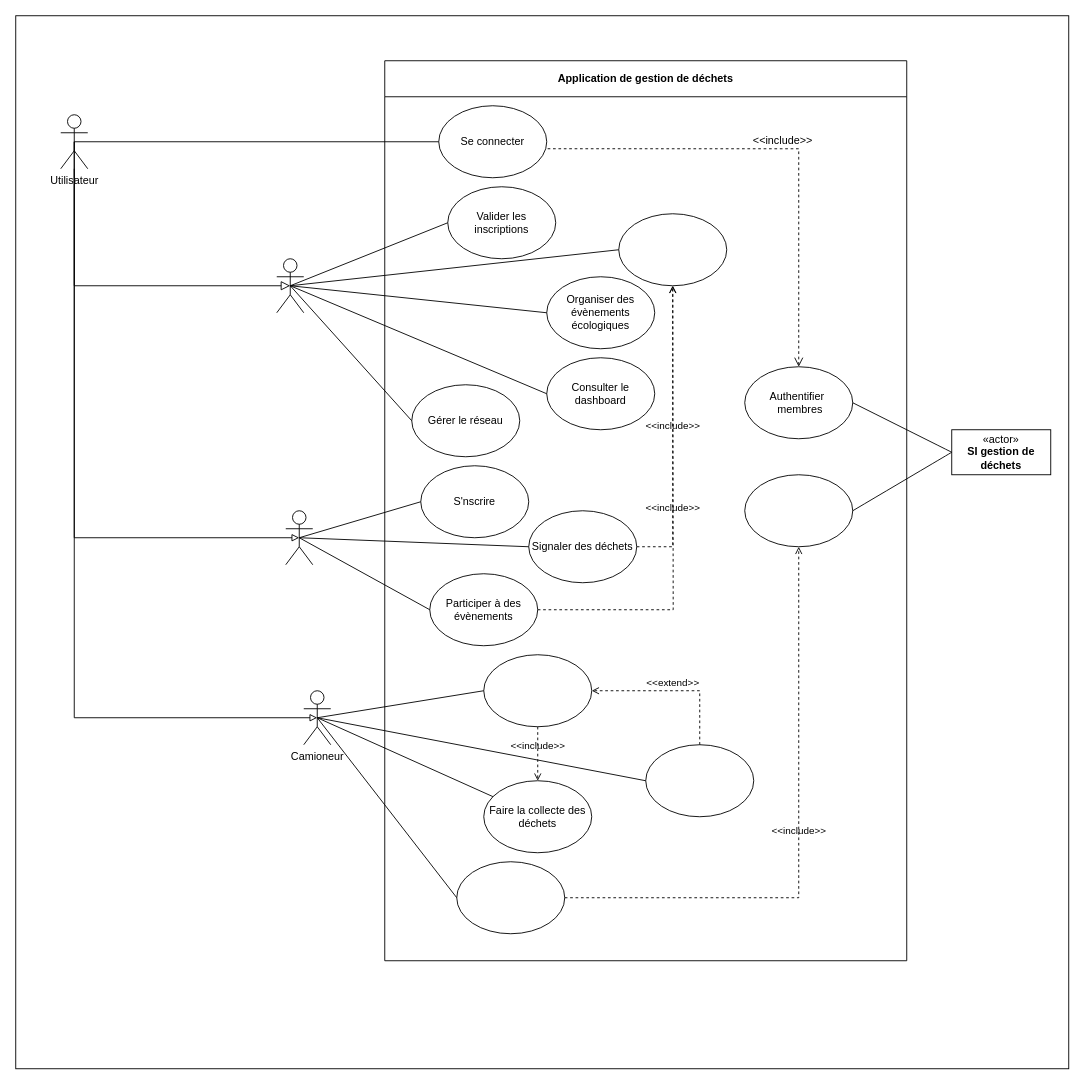
Some shapes in this 1085 by 1085 pixel diagram are drawn without their labels. The shapes that lost their labels are listed below. From the top down, each one's centre as x and y in pixels, then its label:
pixel 672 249: Attribuer des Eco-Points
pixel 290 285: Administrateur
pixel 798 510: Optimiser tournée de collecte
pixel 299 537: Citoyen
pixel 537 690: Accepter les demandes de collecte
pixel 699 780: Déclarer un refus de collecte
pixel 510 897: Suivre l'itinéraire donnée
